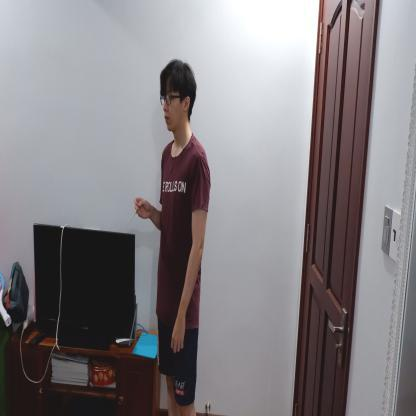cigarette: (128, 210, 137, 223)
person: (136, 56, 213, 415)
